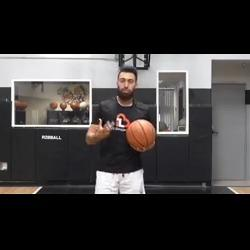BasketBall: (124, 117, 157, 152)
